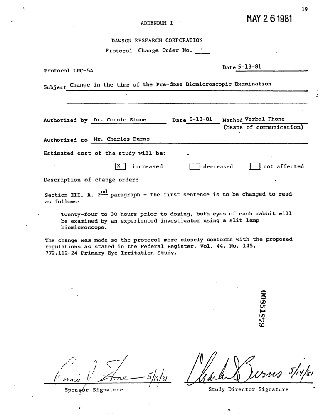checkbox: (249, 162, 262, 171), (114, 162, 126, 171), (189, 162, 201, 171)
textline: (184, 351, 314, 386), (43, 354, 173, 385), (65, 81, 309, 92), (66, 94, 309, 105), (89, 135, 309, 145), (235, 62, 309, 72), (90, 116, 167, 125), (242, 116, 309, 124), (186, 116, 221, 124), (195, 47, 210, 55)
